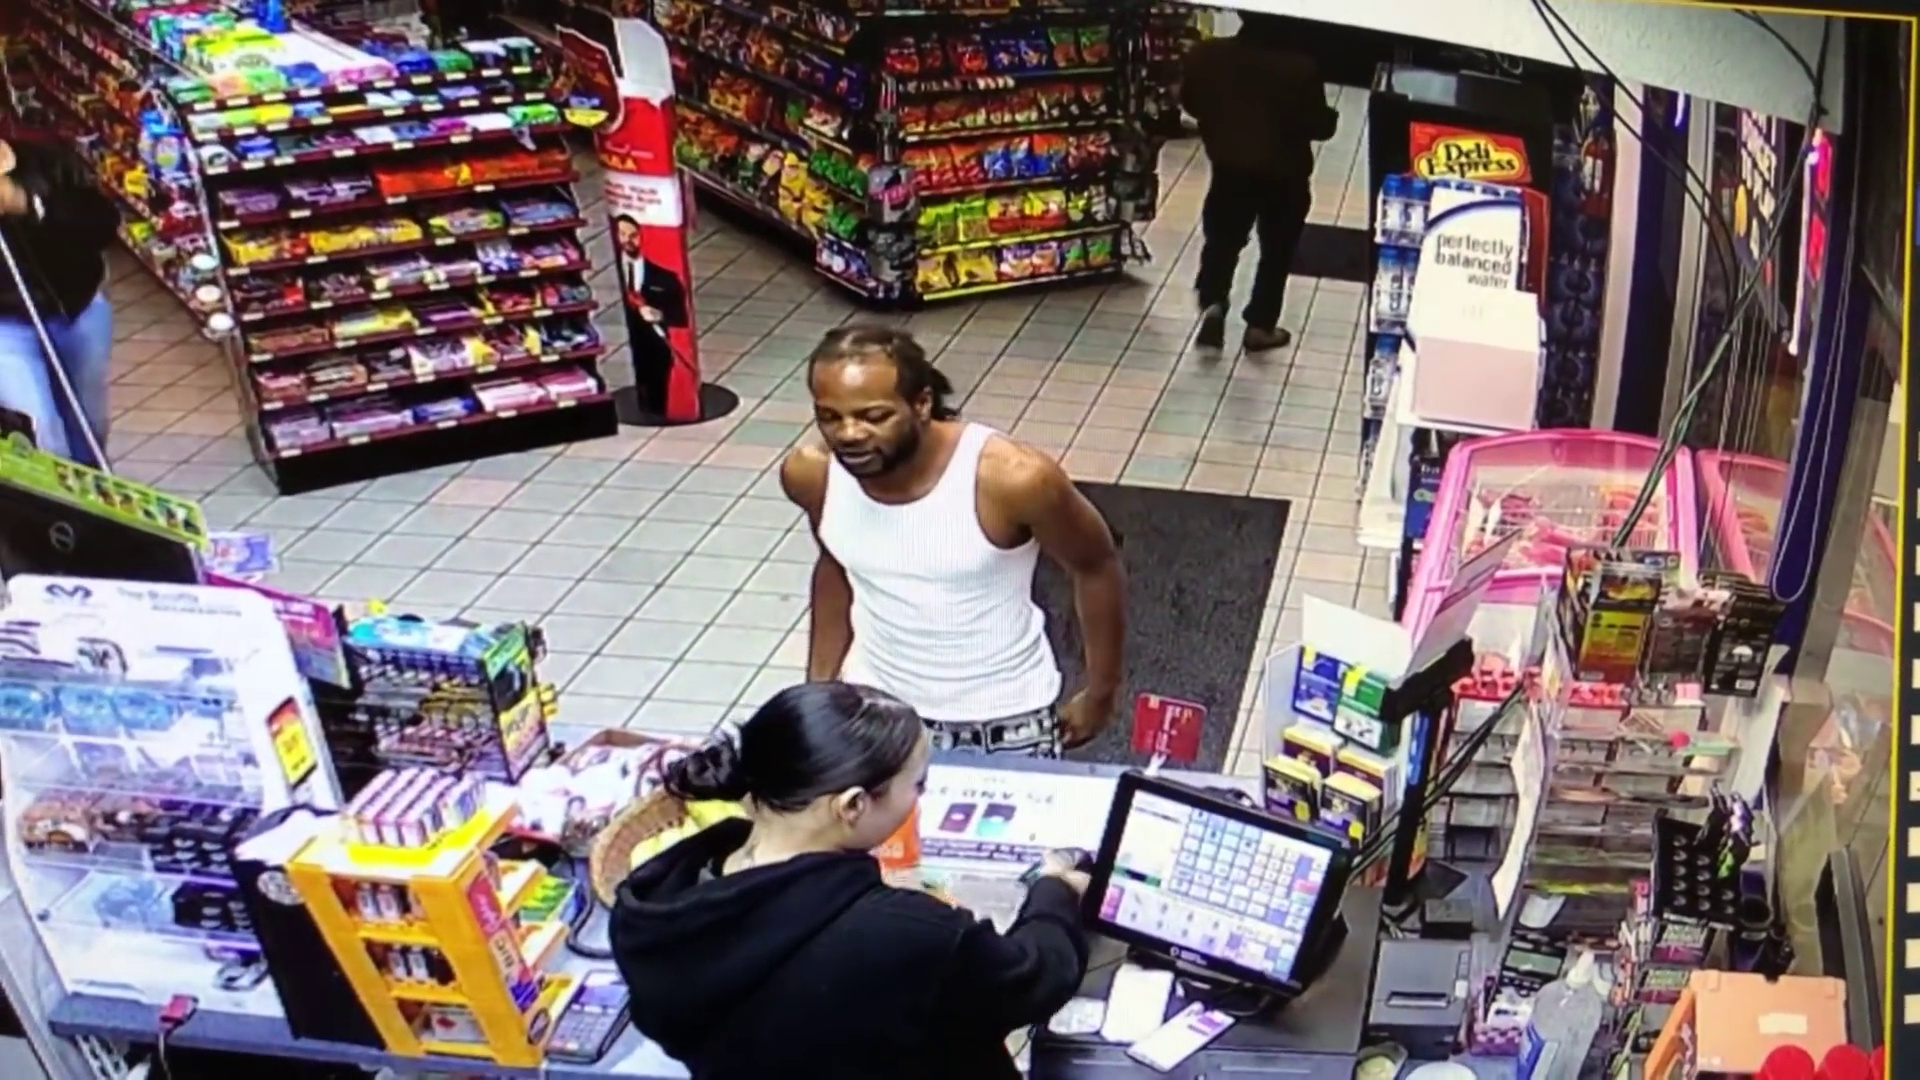face: (801, 345, 924, 483)
